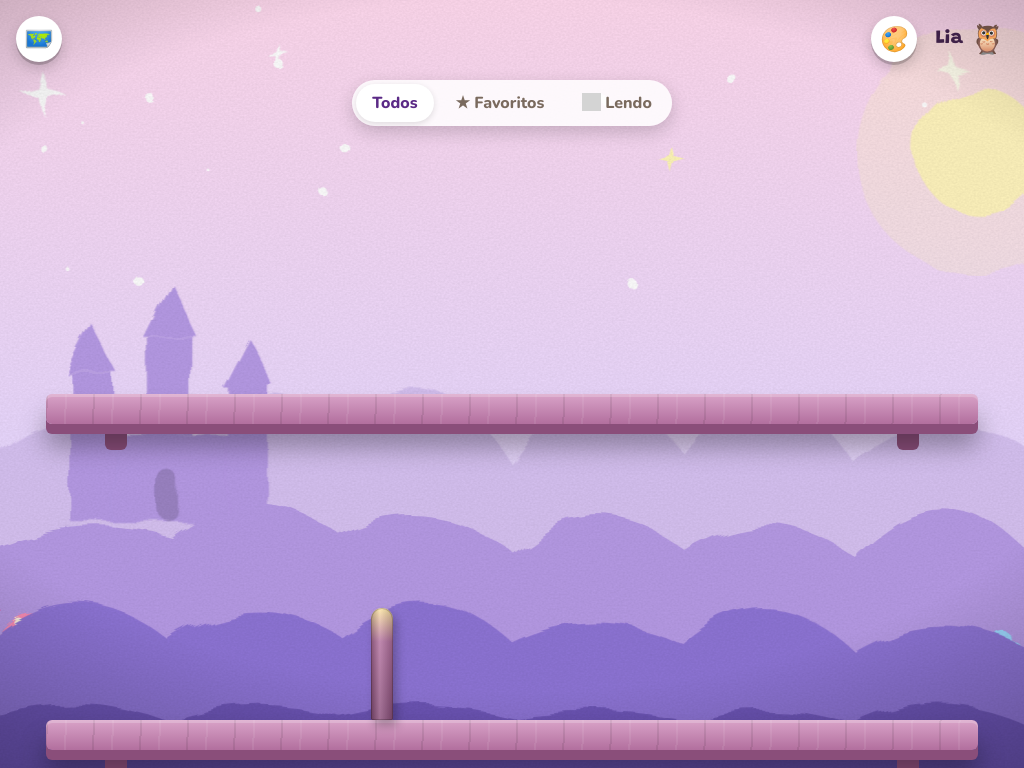
estante › com muitos livros usa várias prateleiras e filtros
Expected: the list named "Prateleira 2" is shown, x1=371 y1=608 x2=393 y2=720
Click the button "★ Favoritos": x=500, y=103 x1=440 y1=84 x2=560 y2=122
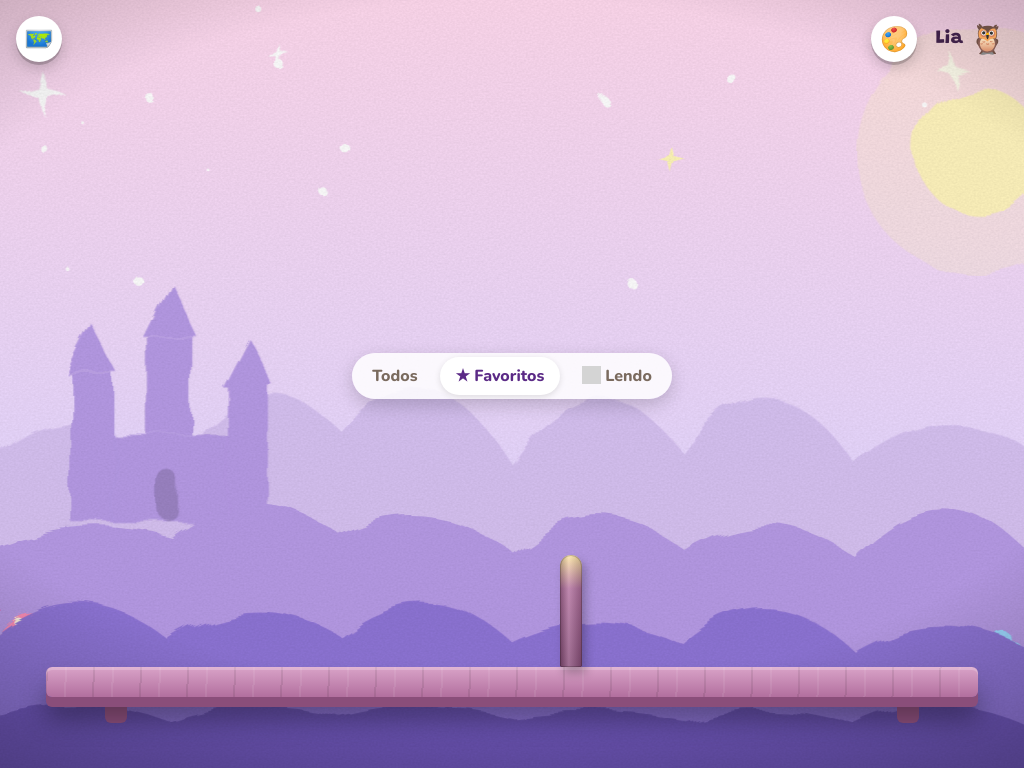
Click the button "Lendo": x=617, y=376 x1=566 y1=357 x2=668 y2=395
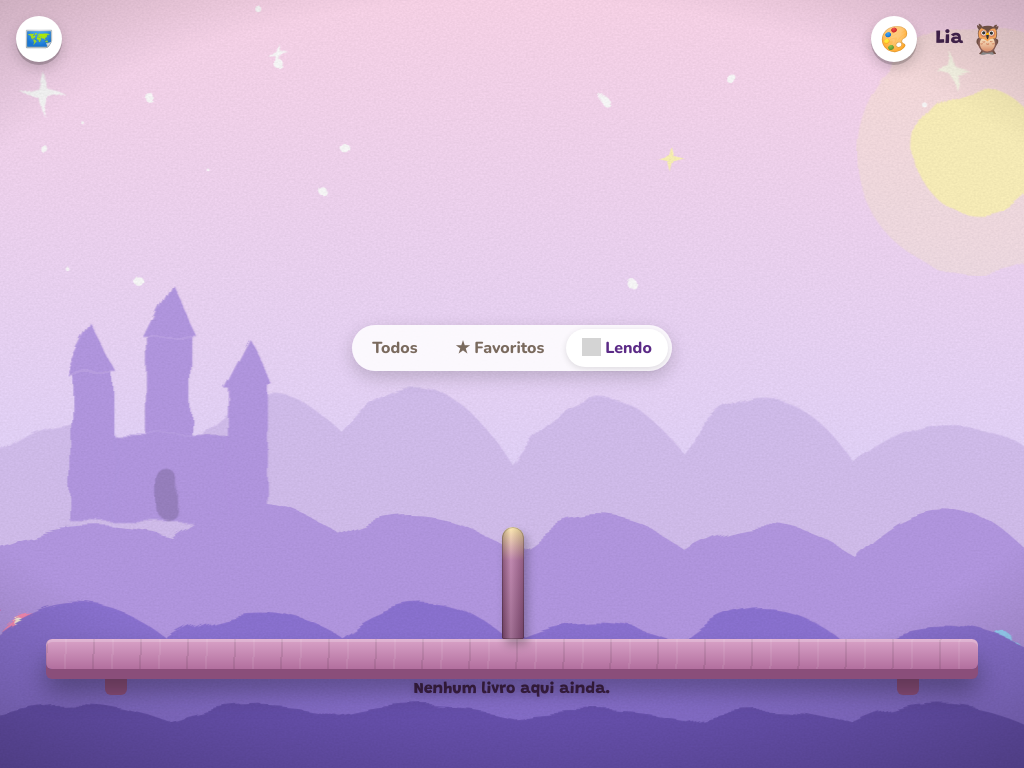
Expected: the text "Nenhum livro aqui ainda." is shown, x1=413 y1=681 x2=611 y2=697
